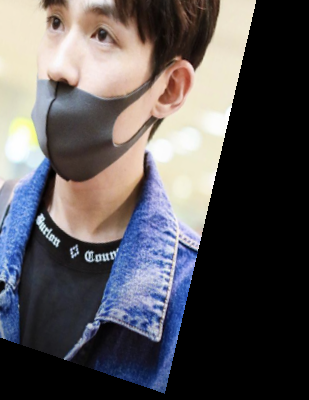mask_weared_incorrect: (24, 1, 227, 189)
